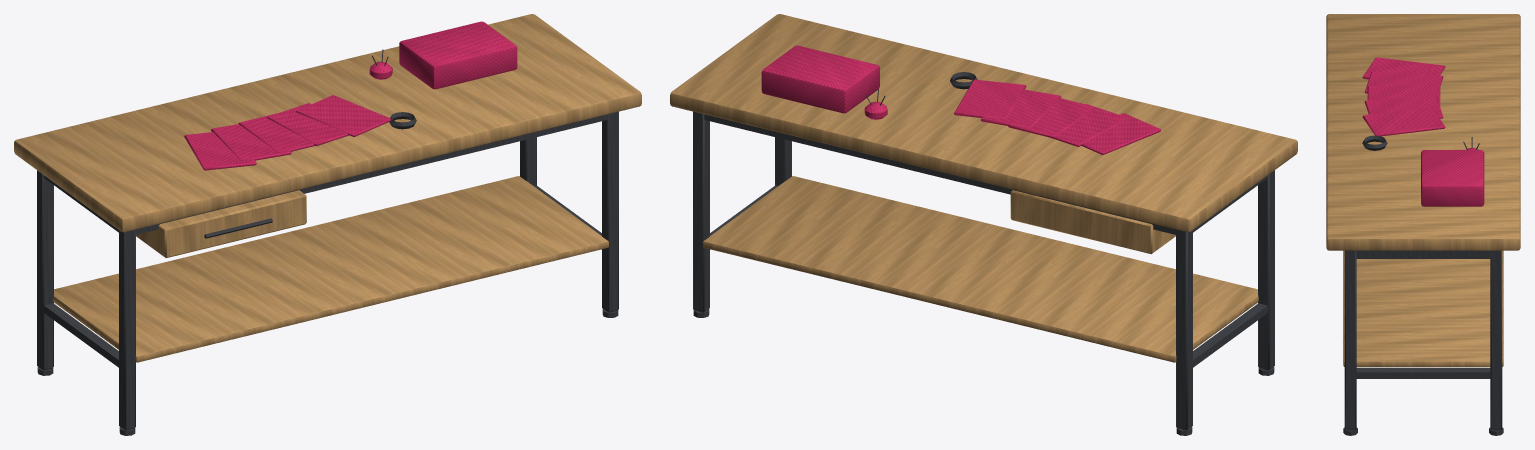
File: bancada-22.glb
The picture shows the model from 3 angles, left to right: view 1: azimuth 30°, elevation 25°; view 2: azimuth 150°, elevation 25°; view 3: azimuth 270°, elevation 25°; orthographic projection. The views are drawn at different scales.
Visible parts, largest first — view 1: tampo, prateleira, caixa-de-amostras, gaveta, pe, pe.002, pe.001, longarina, amostra.004, amostra, amostra.003, amostra.001 (+3 smaller); view 2: tampo, prateleira, caixa-de-amostras, gaveta, pe.001, pe.003, pe, longarina.001, amostra.004, amostra, amostra.002, amostra.003 (+3 smaller); view 3: tampo, prateleira, caixa-de-amostras, pe.002, pe.003, amostra.004, apoio-prateleira.001, travessa-lado.001, amostra.003, amostra, amostra.002, amostra.001 (+1 smaller).
Part boxes in pixels (x1,y1,x2,y2): tampo: [14, 14, 641, 232]; prateleira: [53, 176, 608, 362]; caixa-de-amostras: [399, 21, 517, 89]; gaveta: [136, 190, 306, 258]; pe: [119, 229, 135, 430]; pe.002: [602, 111, 618, 312]; pe.001: [37, 170, 53, 370]; longarina: [136, 114, 607, 234]; amostra.004: [296, 95, 391, 136]; amostra: [184, 132, 256, 170]; amostra.003: [267, 103, 348, 145]; amostra.001: [211, 124, 291, 161]; tampo: [670, 14, 1297, 232]; prateleira: [703, 176, 1258, 362]; caixa-de-amostras: [761, 45, 879, 113]; gaveta: [1010, 190, 1175, 254]; pe.001: [1176, 229, 1192, 430]; pe.003: [693, 111, 709, 312]; pe: [1258, 170, 1274, 370]; longarina.001: [704, 114, 1175, 234]; amostra.004: [954, 79, 1026, 118]; amostra: [1081, 113, 1160, 154]; amostra.002: [1008, 98, 1095, 138]; amostra.003: [980, 89, 1061, 128]; tampo: [1326, 14, 1520, 250]; prateleira: [1343, 250, 1503, 367]; caixa-de-amostras: [1421, 150, 1484, 206]; pe.002: [1344, 250, 1356, 430]; pe.003: [1490, 250, 1502, 430]; amostra.004: [1362, 107, 1445, 136]; apoio-prateleira.001: [1356, 368, 1490, 378]; travessa-lado.001: [1356, 250, 1490, 258]; amostra.003: [1364, 96, 1443, 118]; amostra: [1362, 57, 1445, 79]; amostra.002: [1367, 86, 1440, 106]; amostra.001: [1364, 71, 1443, 93].
Size of the model in its own units: 2.2 by 1.02 by 0.8.
3 materials, 3 textured.
